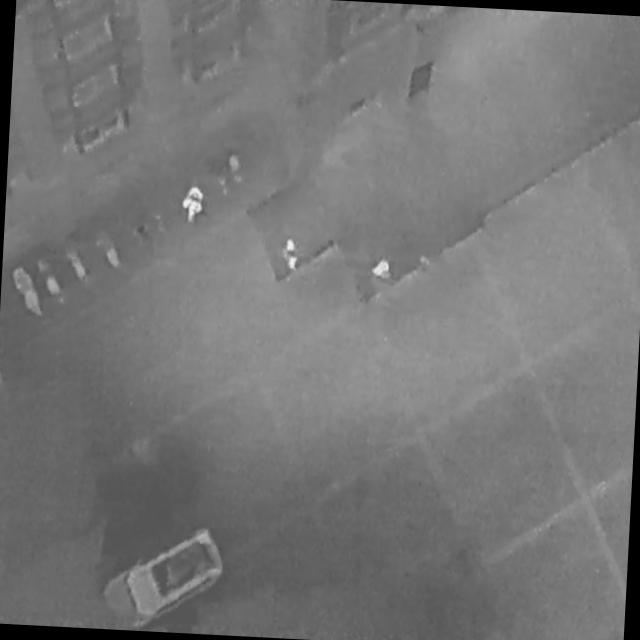person: (181, 185, 206, 224), (281, 238, 302, 273), (371, 257, 393, 281)
